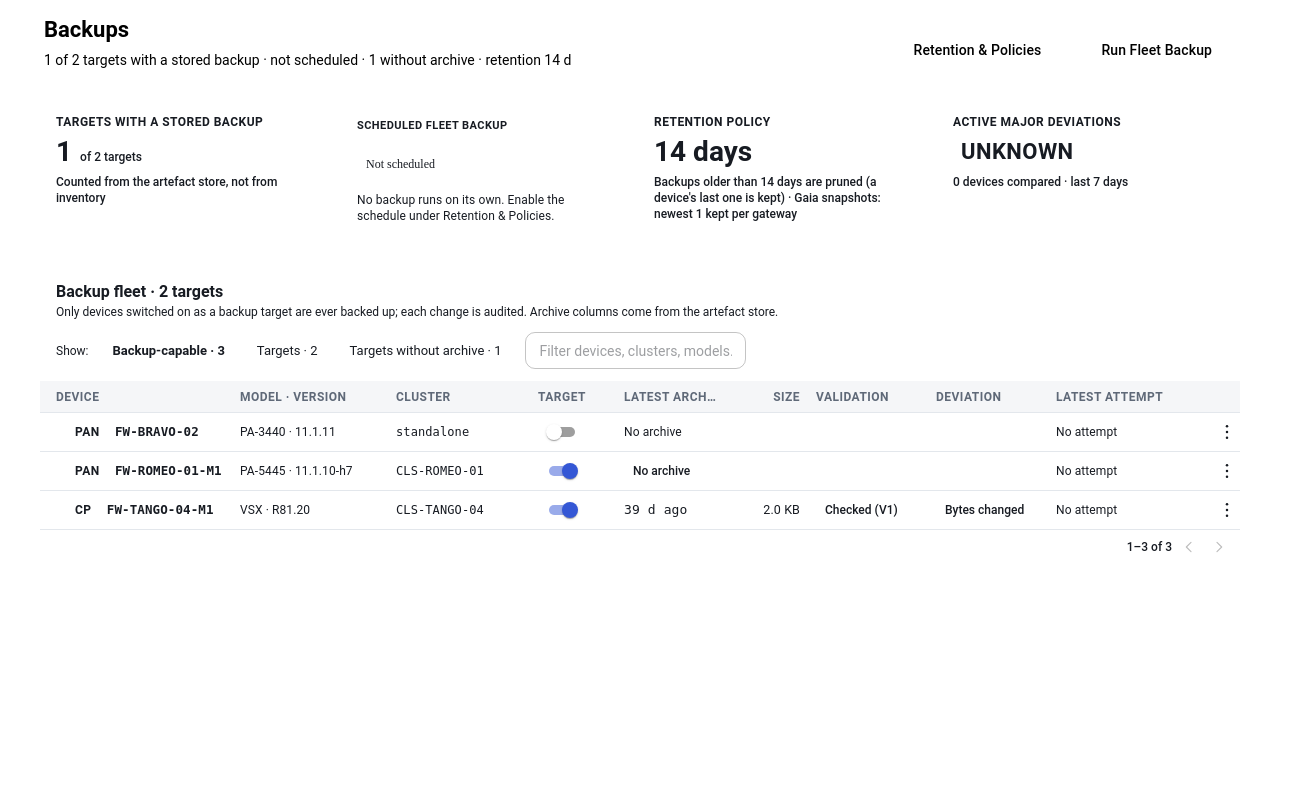
the Backups screen (UI review 2026-09-23) › shows one row per device with the target switch, the latest archive and every action
The image size is (1292, 800).
Expected: the checkbox named "Backup target FW-TANGO-04-M1" is checked, [562,502,578,518]
Expected: the button "Backup Now" is not shown
Click the button named "Actions for FW-TANGO-04-M1" at (1227, 510), box [1212,495,1242,525]
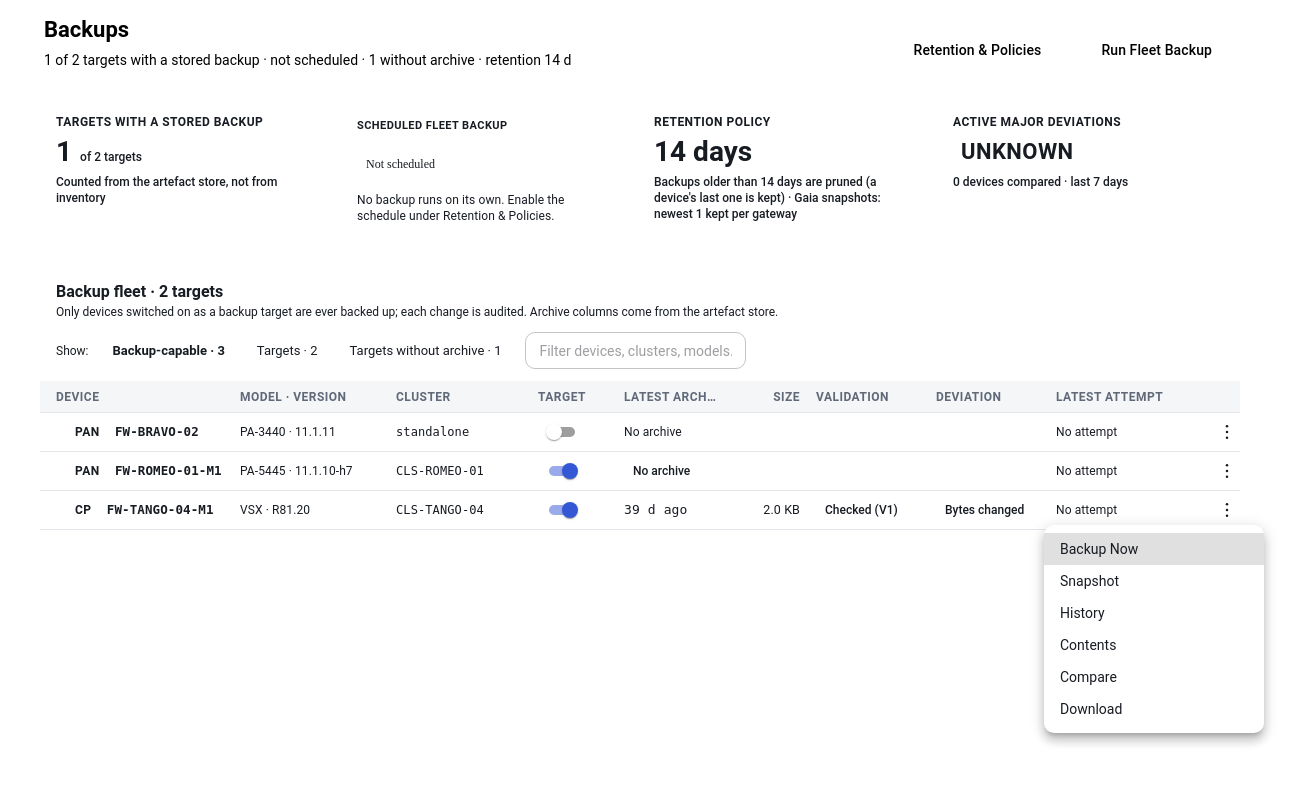
Result: the menu item "Backup Now" is shown at [1044,533,1264,565]
Result: the menu item "Snapshot" is shown at [1060,573,1119,589]
Result: the menu item "History" is shown at [1060,605,1104,621]
